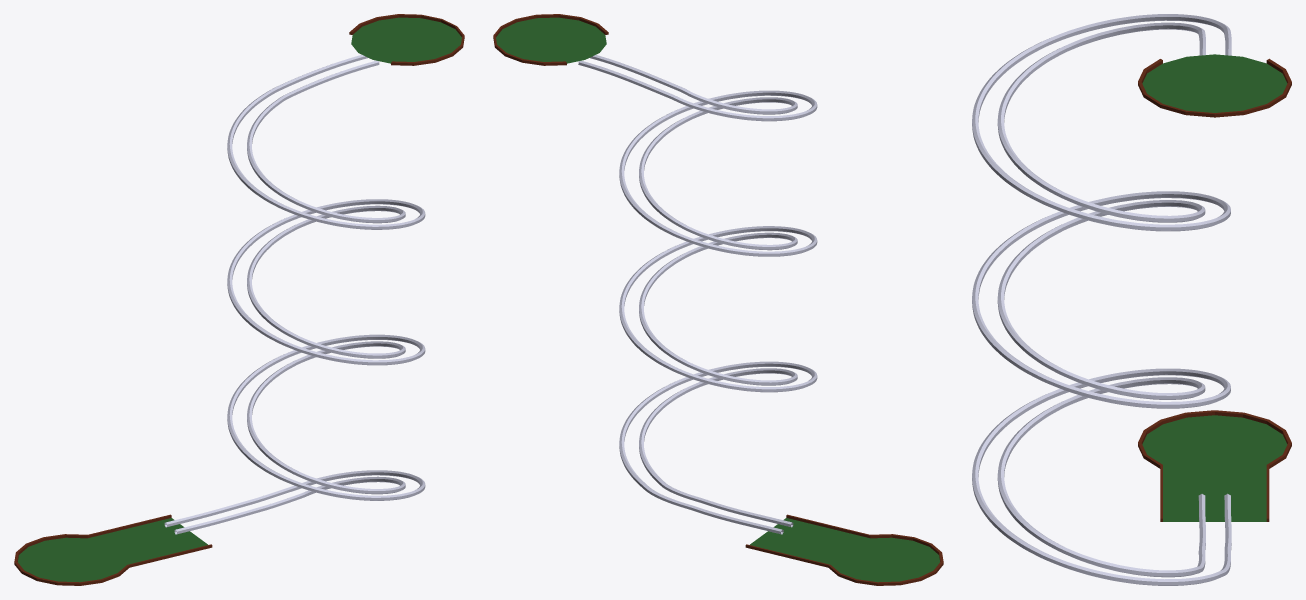
The model's file is Helix.fbx.
3 views of the same model, side by side, from view 1: azimuth 30°, elevation 25°; view 2: azimuth 150°, elevation 25°; view 3: azimuth 270°, elevation 25° (orthographic). The views are drawn at different scales.
Parts seen in each view (by area): view 1: Plane, Circle.001, Circle; view 2: Plane, Circle.001, Circle; view 3: Plane, Circle.001, Circle.
Boxes of the visible parts, <box> form: Plane: <box>164,55,425,534</box>; Circle.001: <box>14,514,212,585</box>; Circle: <box>349,14,464,65</box>; Plane: <box>578,55,817,534</box>; Circle.001: <box>745,514,943,585</box>; Circle: <box>493,14,608,65</box>; Plane: <box>972,14,1231,585</box>; Circle.001: <box>1138,410,1291,521</box>; Circle: <box>1138,54,1291,117</box>.
Bounding box in the file's own units: 1794 × 1737 × 872.
